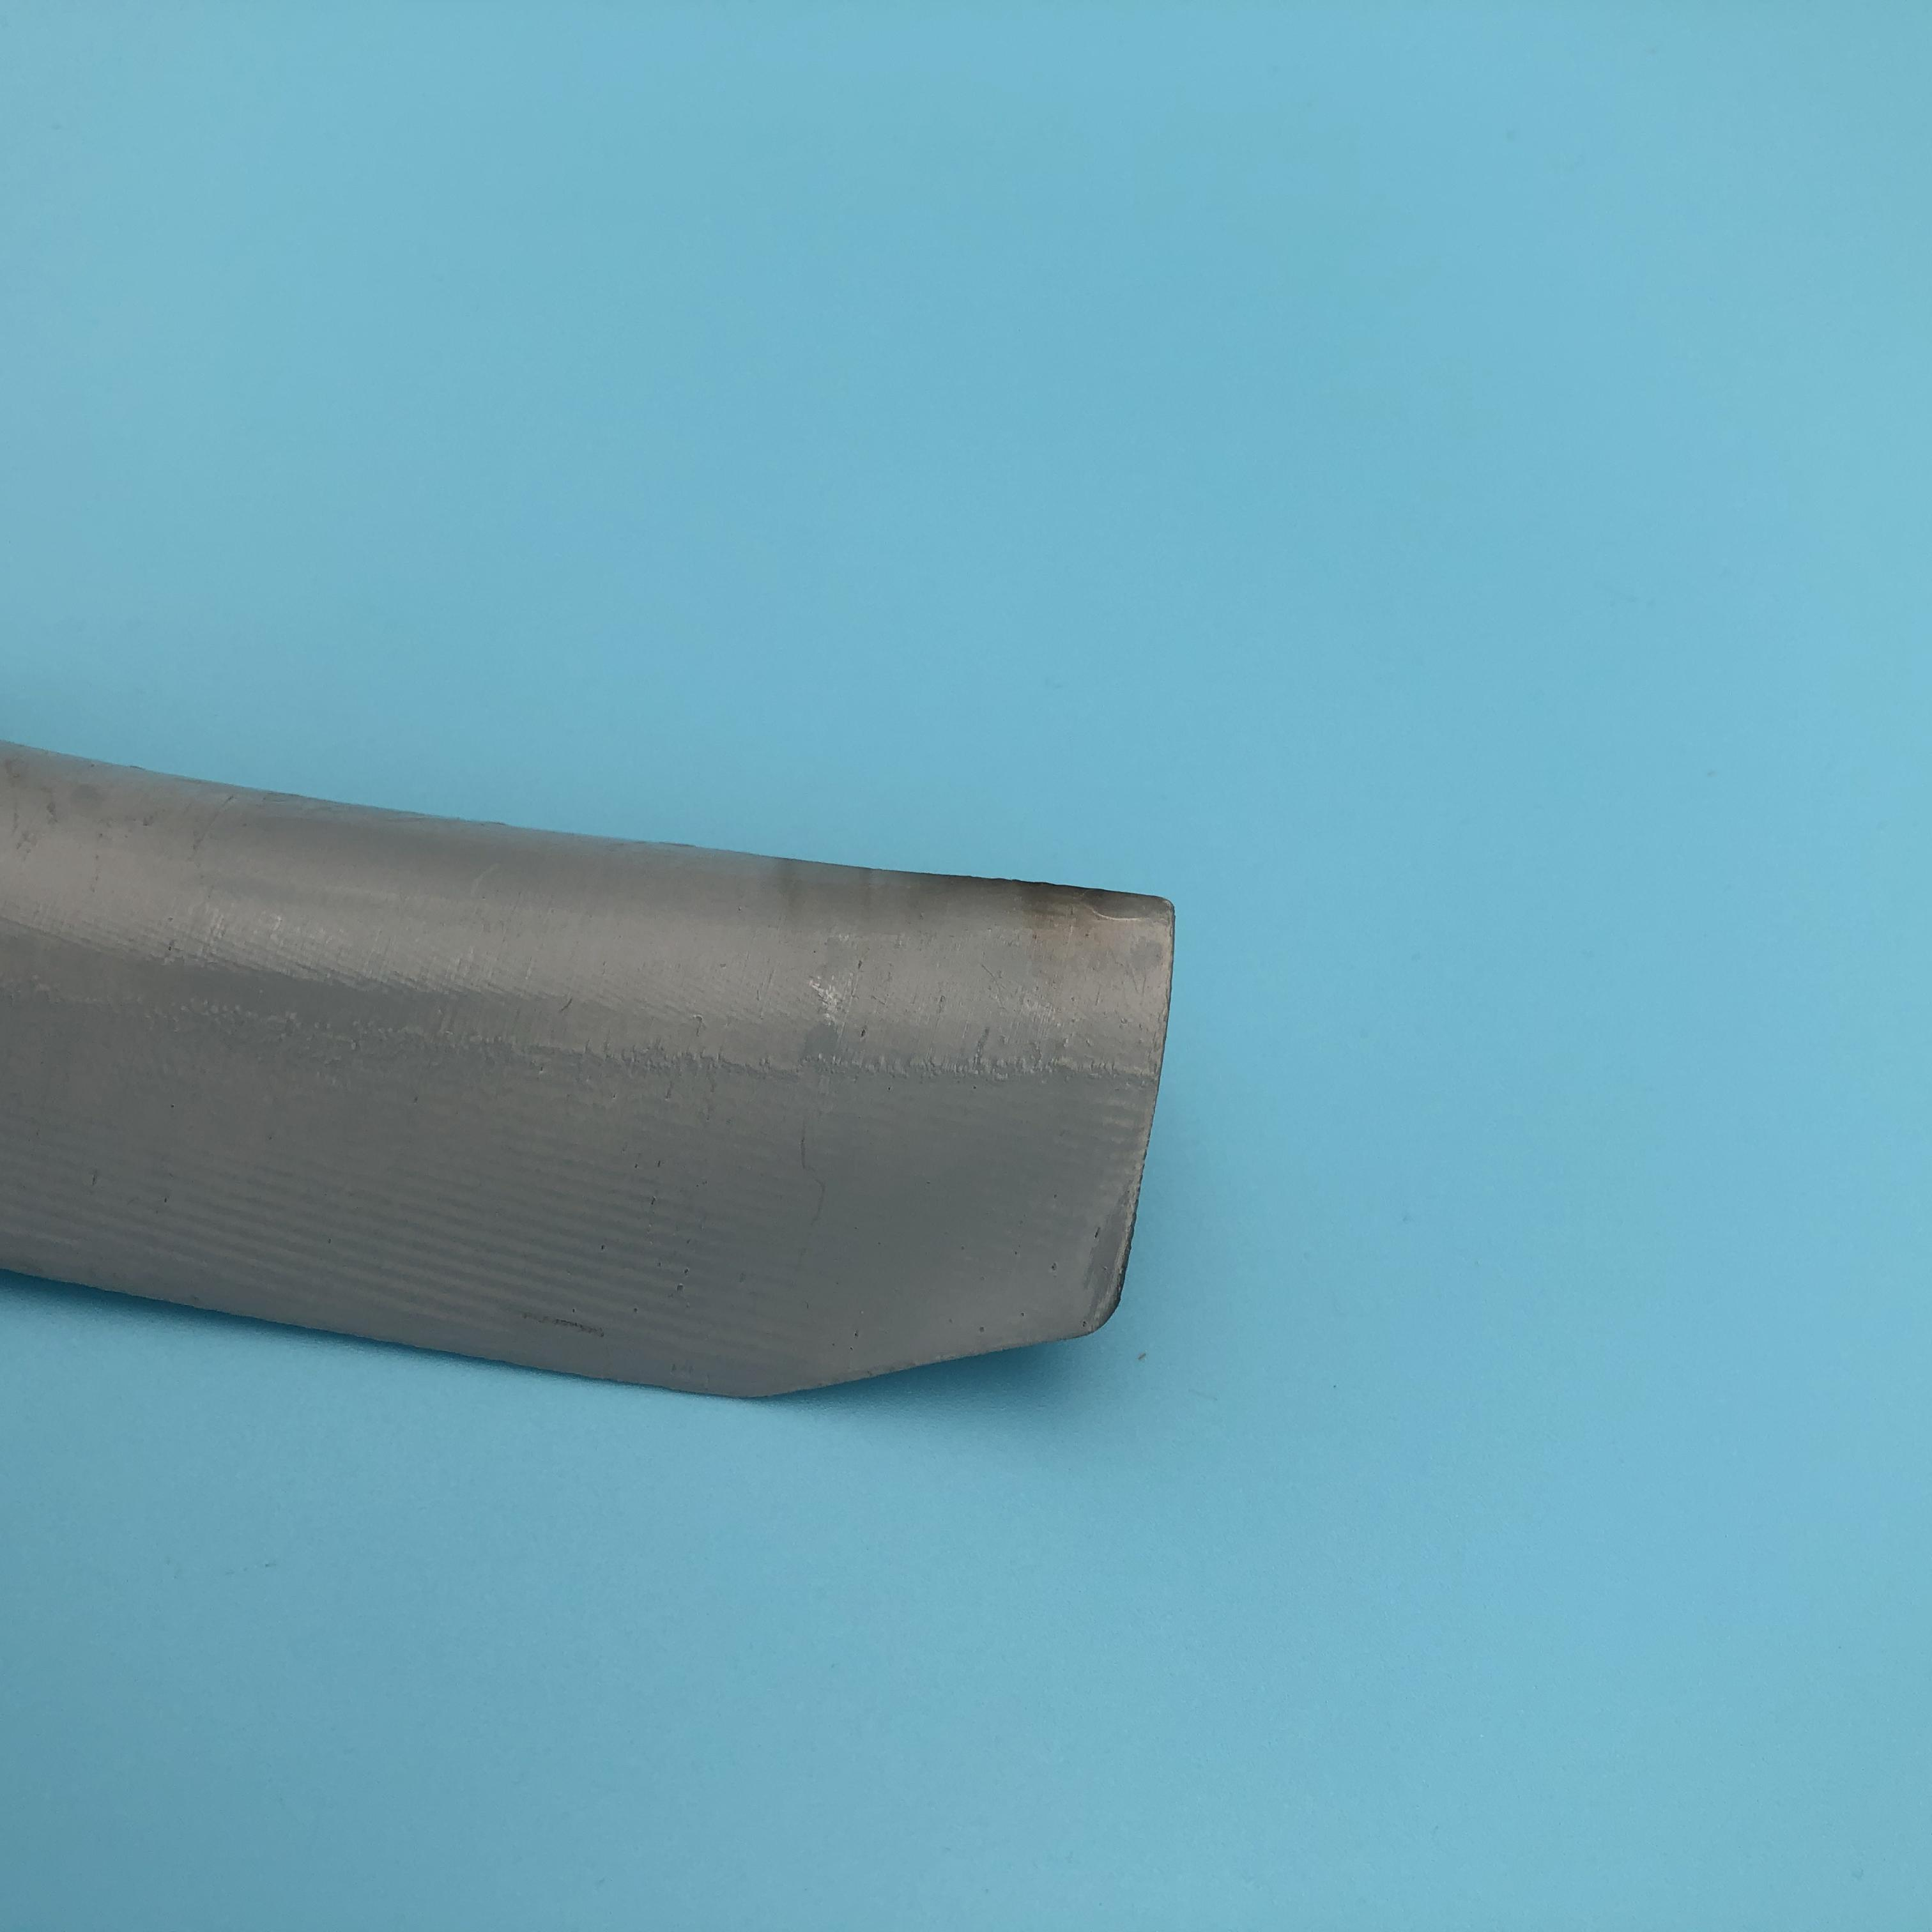ablation: (810, 863, 1177, 945), (1086, 1173, 1150, 1343)
